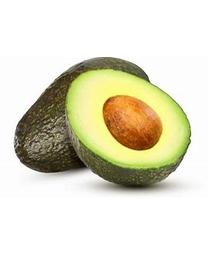avocado: (14, 56, 151, 174), (63, 68, 191, 186)
